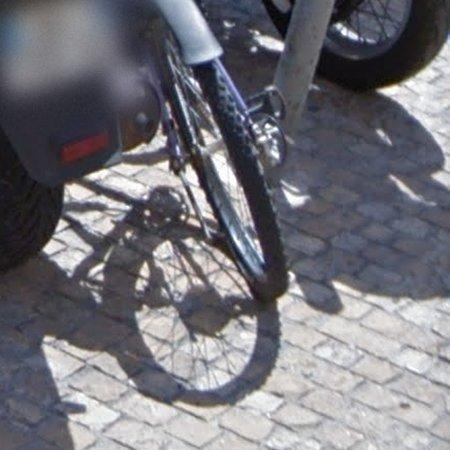bicycles: (166, 36, 289, 301)
